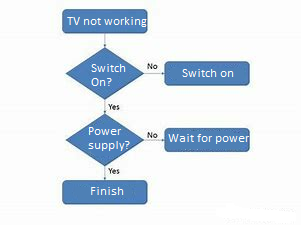arrow: (142, 137, 165, 143), (102, 33, 108, 49), (102, 164, 108, 180), (142, 71, 165, 75), (103, 97, 107, 114)
decision: (64, 113, 146, 169), (64, 47, 145, 100)
process: (60, 7, 149, 35), (163, 59, 251, 87), (163, 127, 251, 154), (61, 178, 149, 205)
text: (87, 126, 132, 151), (65, 15, 146, 28), (167, 132, 250, 144), (89, 63, 127, 87), (180, 67, 236, 78), (89, 186, 125, 195), (106, 102, 122, 110), (145, 130, 159, 139), (146, 61, 159, 70), (107, 166, 120, 175)
